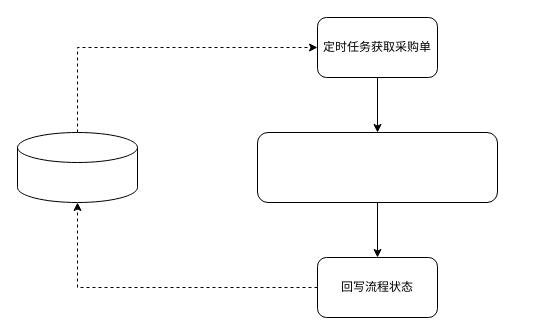
This 533x335 diagram has some shape labels left out. Each missing label, with the centre of its shape:
根据采购单的instance_id , 调用钉钉接口 https://oapi.dingtalk.com/topapi/processinstance/get: the point at 377,167
流程未完结的采购单: the point at 77,167
